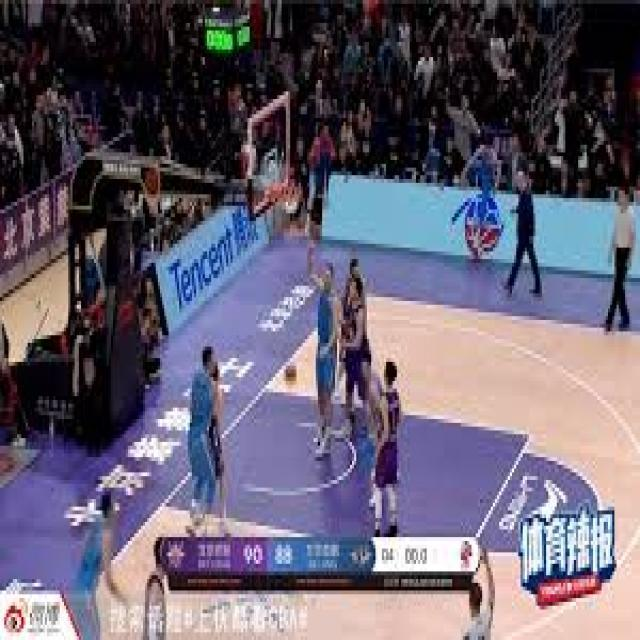rim: (286, 366, 296, 384)
